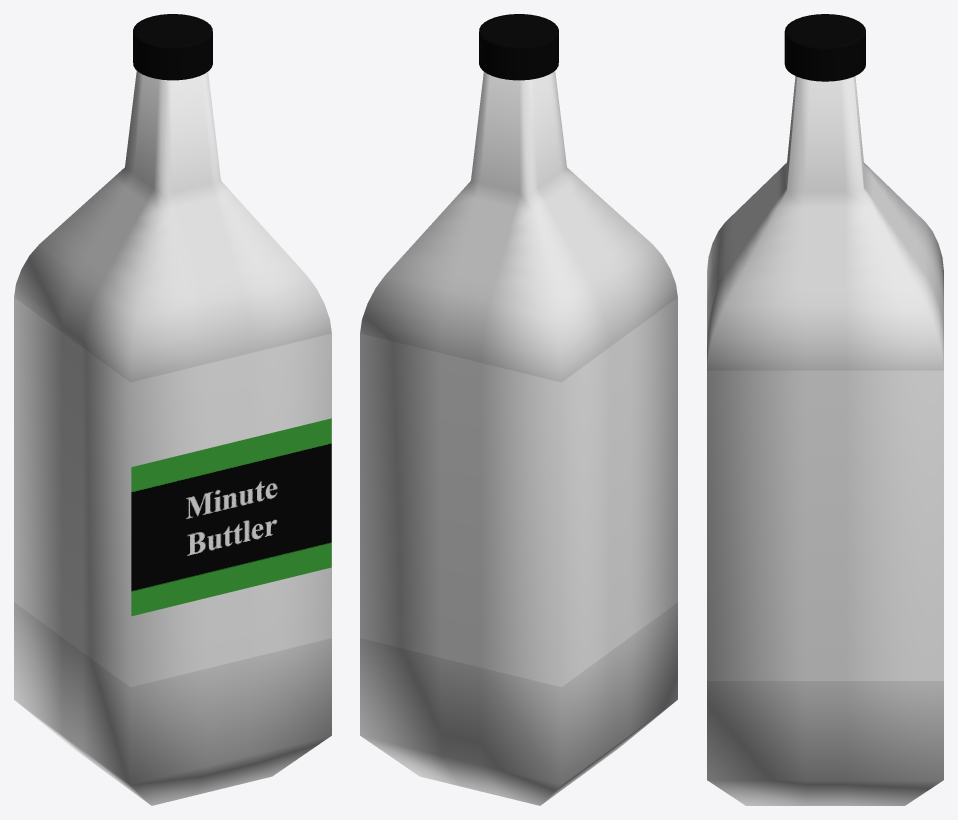
Rendered from Envase de jugo grande.fbx.
3 renders of one model, left to right at view 1: azimuth 30°, elevation 25°; view 2: azimuth 150°, elevation 25°; view 3: azimuth 270°, elevation 25°, orthographic.
Visible parts, largest first — view 1: Cube, Marcas Piratas-07, Circle; view 2: Cube, Circle; view 3: Cube, Circle.
Boxes of the visible parts, x1,y1,x2,y2 form: Cube: [14, 71, 331, 805]; Marcas Piratas-07: [131, 418, 331, 616]; Circle: [133, 14, 212, 80]; Cube: [360, 71, 677, 805]; Circle: [479, 14, 558, 80]; Cube: [707, 76, 943, 805]; Circle: [784, 14, 865, 81].
Bounding box in the file's own units: 130 × 452 × 131.
